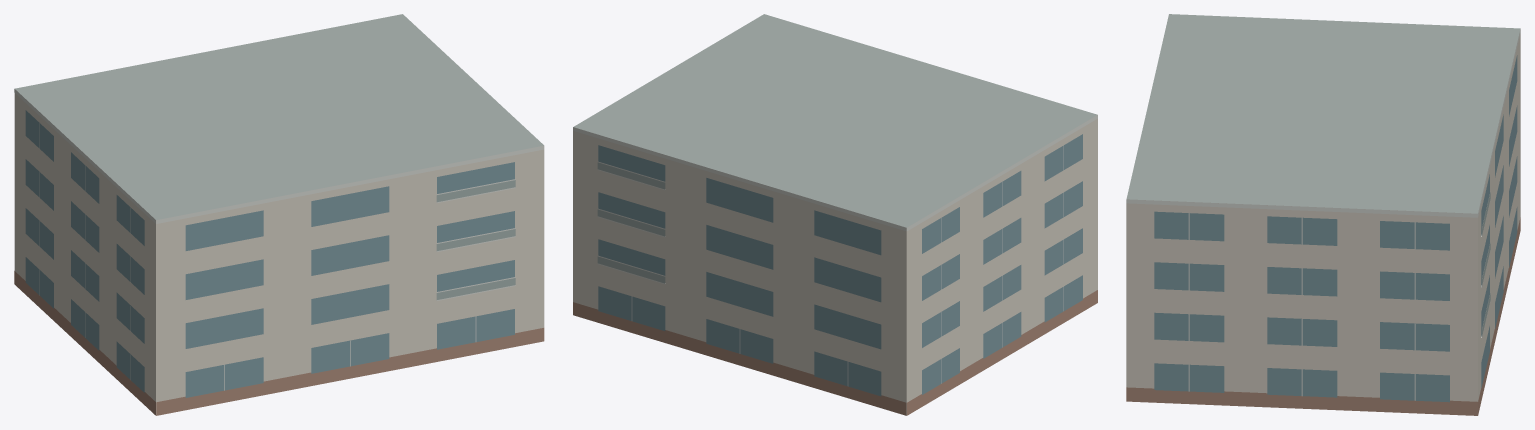
The model's file is residential-86cb5d66-6c1b-4aa3-af59-5c3add7f35a6.glb.
3 views of the same model, side by side, from view 1: azimuth 30°, elevation 25°; view 2: azimuth 150°, elevation 25°; view 3: azimuth 270°, elevation 25° (orthographic). The views are drawn at different scales.
Visible parts, largest first — view 1: residential-86cb5d66-6c1b-4aa3-af59-5c3add7f35a6.tmp; view 2: residential-86cb5d66-6c1b-4aa3-af59-5c3add7f35a6.tmp; view 3: residential-86cb5d66-6c1b-4aa3-af59-5c3add7f35a6.tmp.
Boxes of the visible parts, x1=… form: residential-86cb5d66-6c1b-4aa3-af59-5c3add7f35a6.tmp: x1=14, y1=14, x2=544, y2=415; residential-86cb5d66-6c1b-4aa3-af59-5c3add7f35a6.tmp: x1=573, y1=14, x2=1097, y2=415; residential-86cb5d66-6c1b-4aa3-af59-5c3add7f35a6.tmp: x1=1126, y1=14, x2=1520, y2=415.
Bounding box in the file's own units: 25.86 × 12.2 × 21.56.
